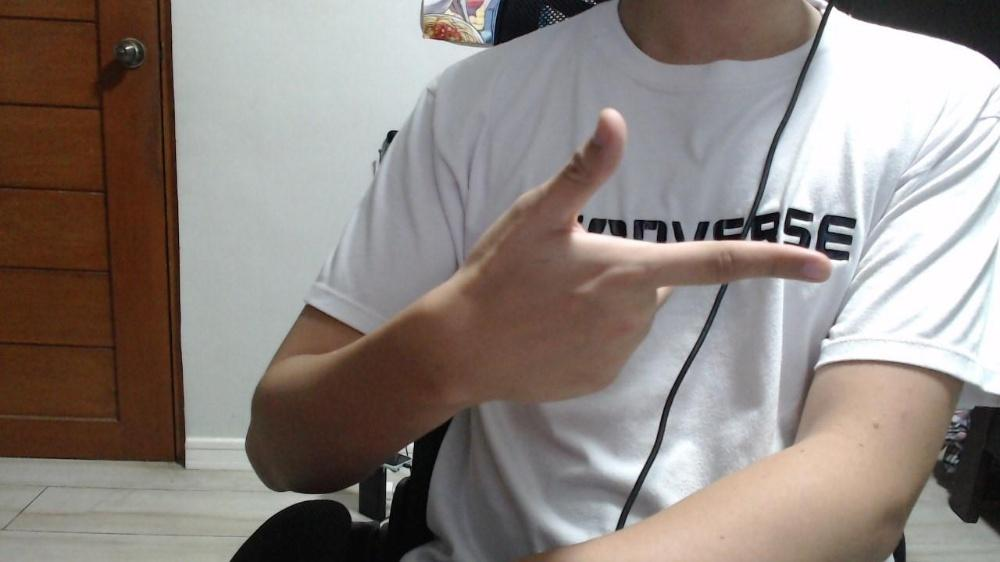g: (447, 109, 831, 400)
